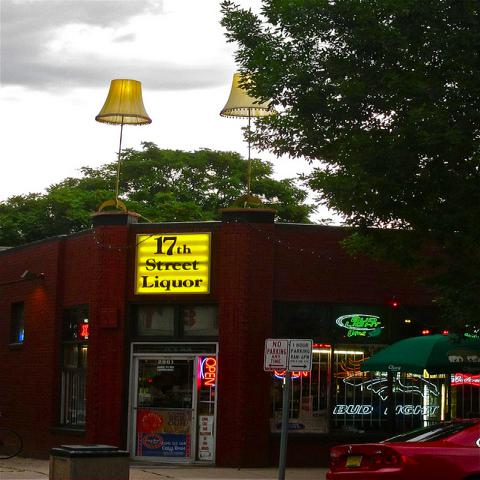car: (327, 420, 479, 479)
